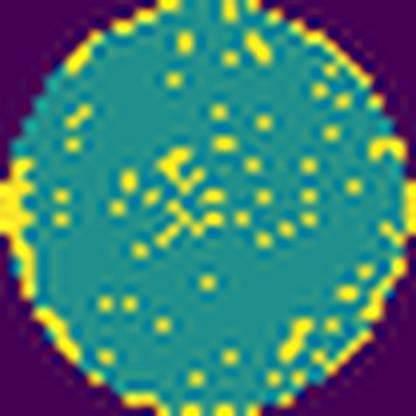Edge-Loc: (0, 152, 45, 305), (27, 299, 85, 362), (126, 389, 172, 416)
